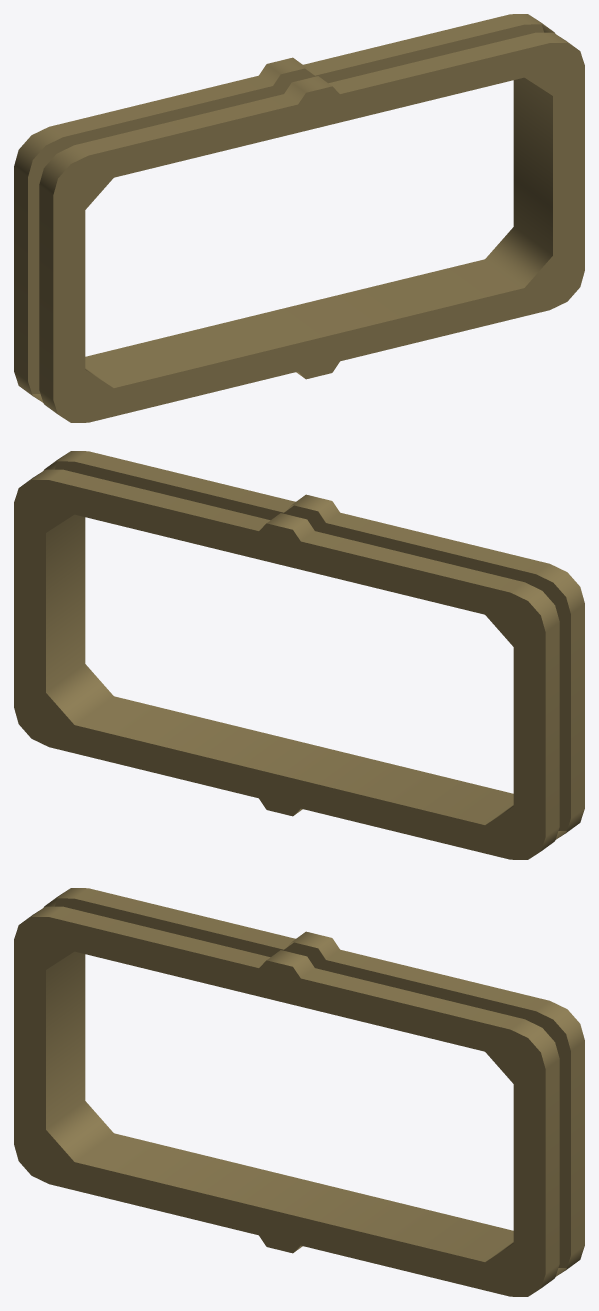
File: Window_frame.fbx
3 views of the same model, one above another, from view 1: azimuth 30°, elevation 25°; view 2: azimuth 150°, elevation 25°; view 3: azimuth 330°, elevation 25° (orthographic).
Visible parts, largest first — view 1: Window; view 2: Window; view 3: Window.
Boxes of the visible parts, left/top/right/bottom form: Window: left=14, top=14, right=584, bottom=422; Window: left=14, top=451, right=584, bottom=859; Window: left=14, top=888, right=584, bottom=1296.
Size of the model in its own units: 544 by 280 by 69.82.
